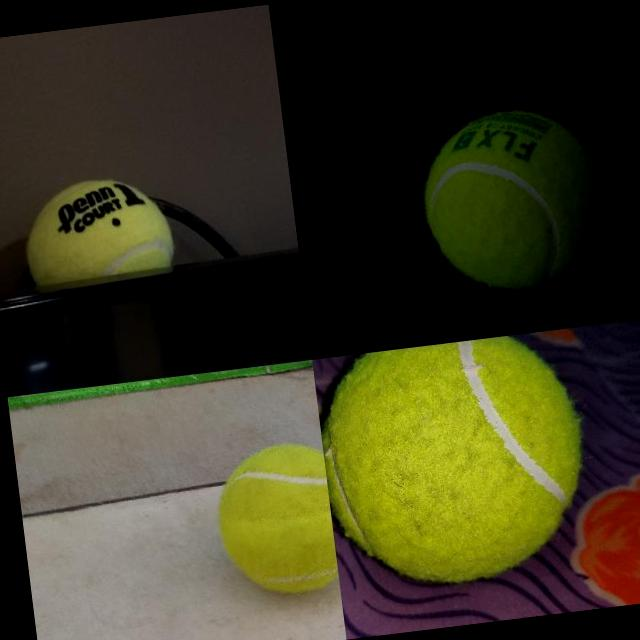Tennis Ball: (312, 328, 597, 596), (412, 99, 616, 299), (208, 438, 338, 600), (16, 168, 177, 282)
